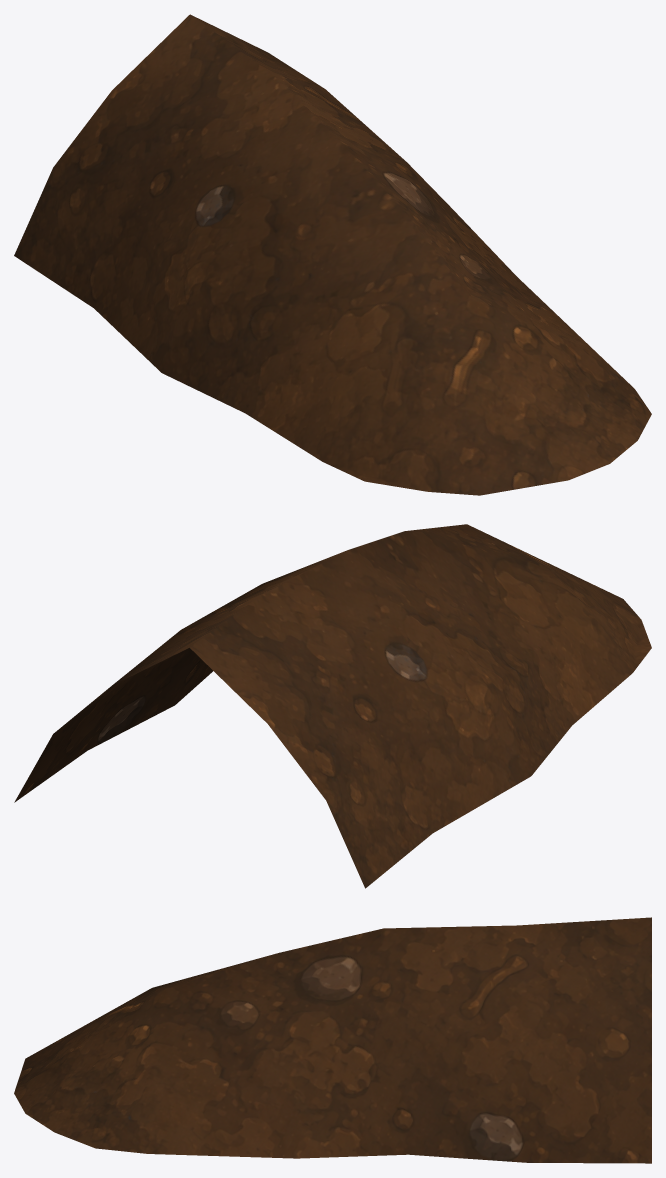
File: Ridge02.fbx
3 renders of one model, top to bottom at view 1: azimuth 30°, elevation 25°; view 2: azimuth 150°, elevation 25°; view 3: azimuth 270°, elevation 25°, orthographic. The views are drawn at different scales.
Parts seen in each view (by area): view 1: Ridge02_LOD0; view 2: Ridge02_LOD0; view 3: Ridge02_LOD0.
Part boxes in pixels (<box>): Ridge02_LOD0: <box>14,14,651,495</box>; Ridge02_LOD0: <box>14,524,651,888</box>; Ridge02_LOD0: <box>14,917,651,1163</box>.
Size of what is drawn, in the model's own units: 0.5657 by 0.2971 by 1.
